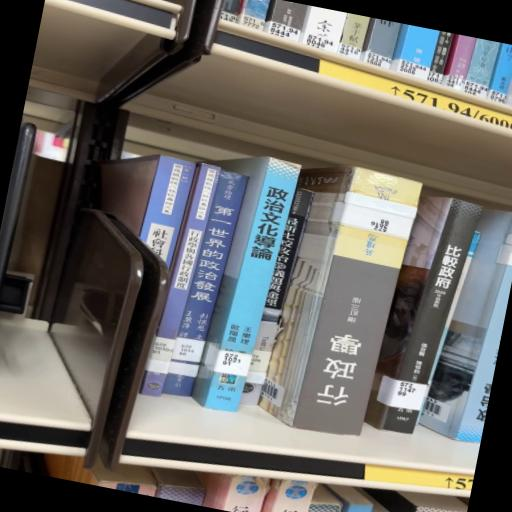reverse: (260, 167, 422, 437)
